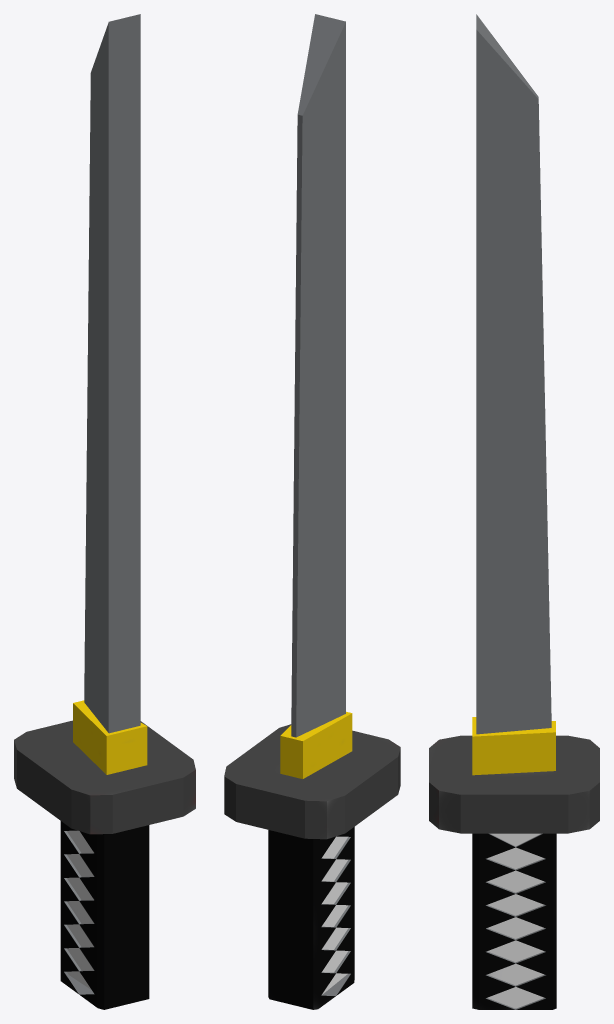
The model's file is Katana.fbx.
3 renders of one model, left to right at view 1: azimuth 30°, elevation 25°; view 2: azimuth 150°, elevation 25°; view 3: azimuth 270°, elevation 25°, orthographic. The views are drawn at different scales.
Visible parts, largest first — view 1: Cube; view 2: Cube; view 3: Cube.
Boxes of the visible parts, bbox=[...] form: Cube: bbox=[14, 14, 195, 1009]; Cube: bbox=[224, 14, 400, 1009]; Cube: bbox=[429, 14, 599, 1009].
Bounding box in the file's own units: 109 × 841 × 133.
